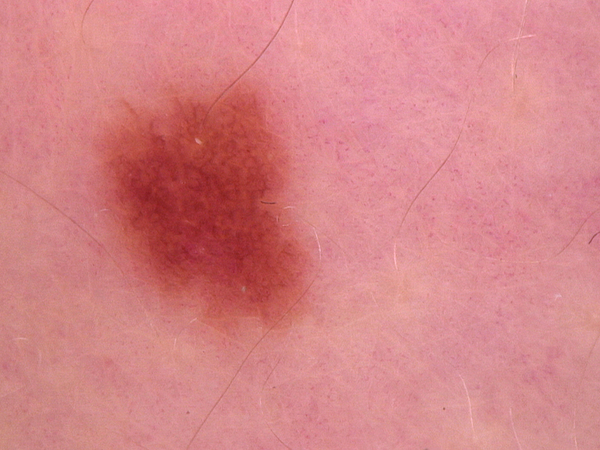Detected Lesion: (87, 83, 319, 336)
